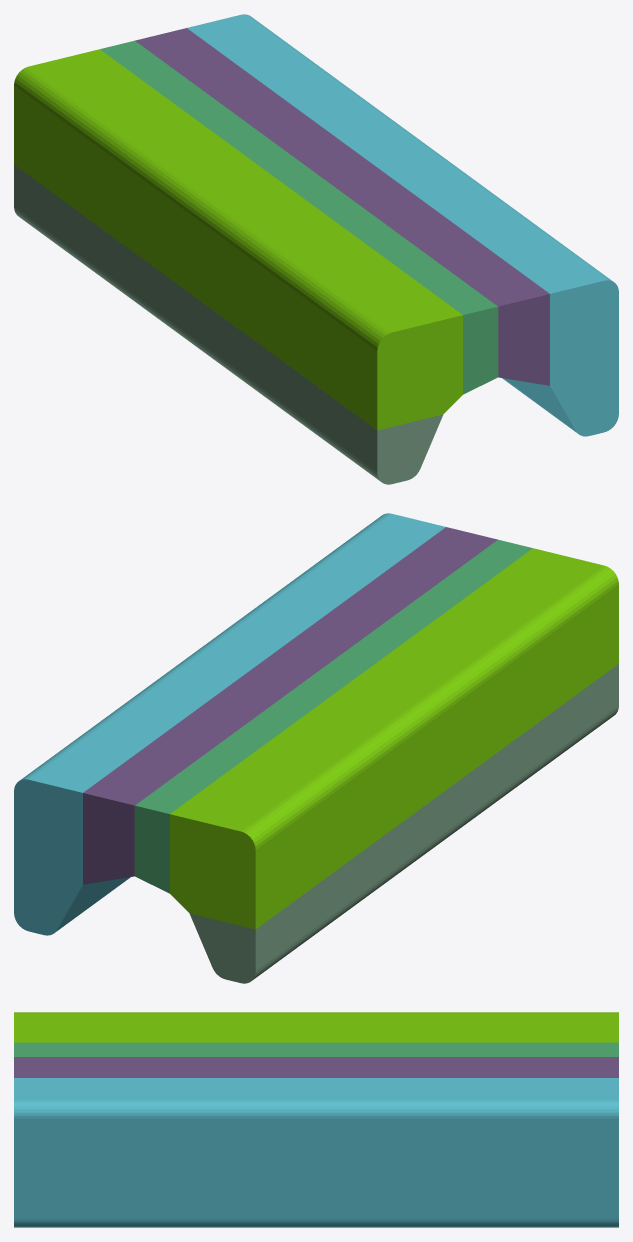
Rendered from peg_36_body.obj.
3 renders of one model, top to bottom at view 1: azimuth 30°, elevation 25°; view 2: azimuth 150°, elevation 25°; view 3: azimuth 270°, elevation 25°, orthographic. The views are drawn at different scales.
Parts seen in each view (by area): view 1: geometry_4, geometry_2, geometry_1, geometry_0, geometry_3; view 2: geometry_4, geometry_2, geometry_1, geometry_0, geometry_3; view 3: geometry_2, geometry_4, geometry_1, geometry_3.
Boxes of the visible parts, x1=… form: geometry_4: x1=14, y1=49, x2=462, y2=430; geometry_2: x1=187, y1=14, x2=618, y2=436; geometry_1: x1=135, y1=28, x2=549, y2=385; geometry_0: x1=14, y1=165, x2=442, y2=484; geometry_3: x1=100, y1=40, x2=498, y2=394; geometry_4: x1=170, y1=548, x2=618, y2=929; geometry_2: x1=14, y1=513, x2=445, y2=935; geometry_1: x1=83, y1=527, x2=497, y2=884; geometry_0: x1=190, y1=664, x2=618, y2=983; geometry_3: x1=134, y1=539, x2=532, y2=893; geometry_2: x1=14, y1=1078, x2=618, y2=1227; geometry_4: x1=14, y1=1012, x2=618, y2=1042; geometry_1: x1=14, y1=1057, x2=618, y2=1077; geometry_3: x1=14, y1=1042, x2=618, y2=1056.
Bounding box in the file's own units: 0.048 × 0.0288 × 0.125.
